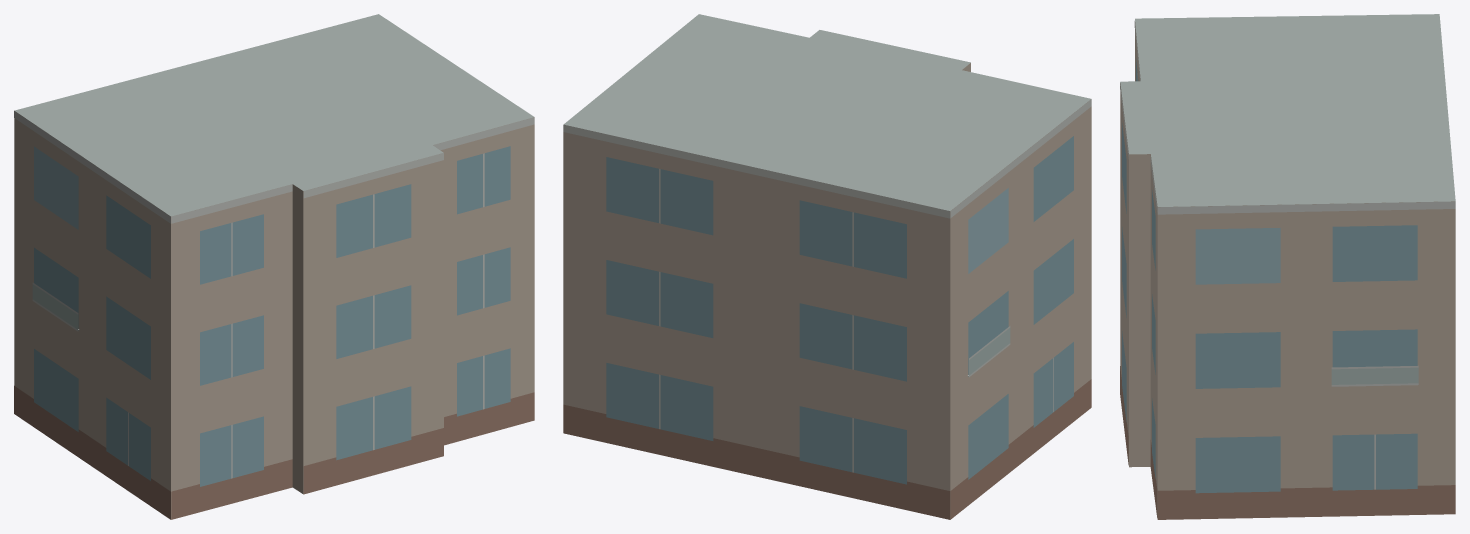
File: survey-upis-32744342.glb
3 views of the same model, side by side, from view 1: azimuth 30°, elevation 25°; view 2: azimuth 150°, elevation 25°; view 3: azimuth 270°, elevation 25° (orthographic). The views are drawn at different scales.
Parts seen in each view (by area): view 1: survey-upis-32744342.tmp; view 2: survey-upis-32744342.tmp; view 3: survey-upis-32744342.tmp.
Part boxes in pixels (x1,y1,x2,y2): survey-upis-32744342.tmp: (14, 14, 534, 519); survey-upis-32744342.tmp: (563, 14, 1091, 519); survey-upis-32744342.tmp: (1120, 14, 1455, 519).
Size of the model in its own units: 13.38 by 10.1 by 9.83.
